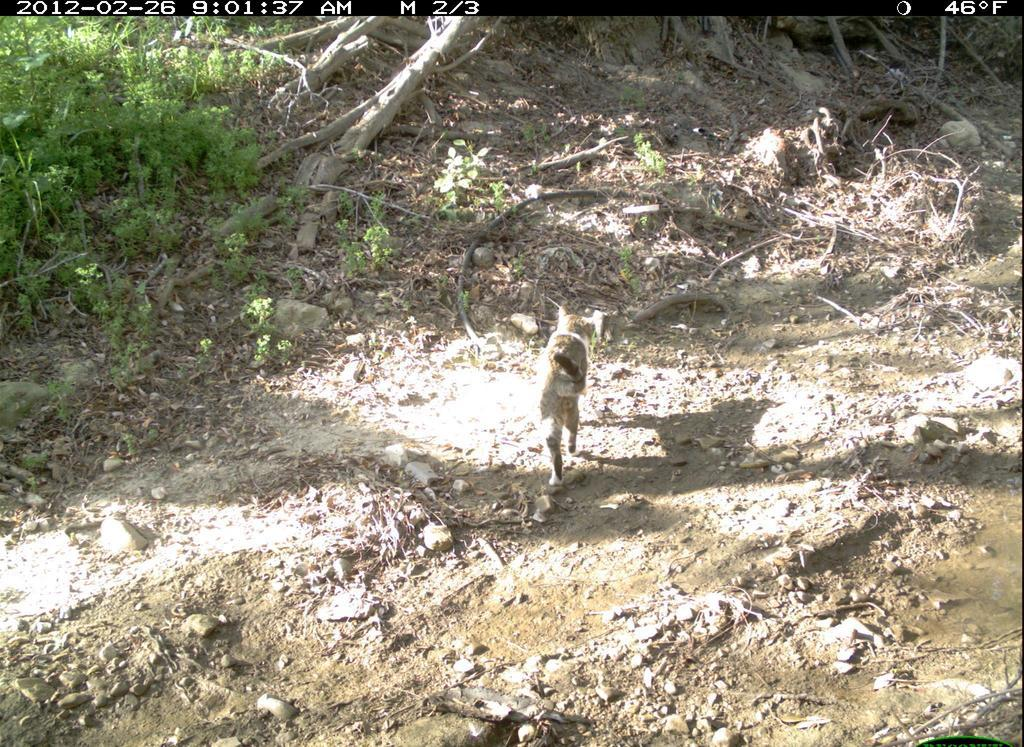cat: (523, 300, 611, 493)
